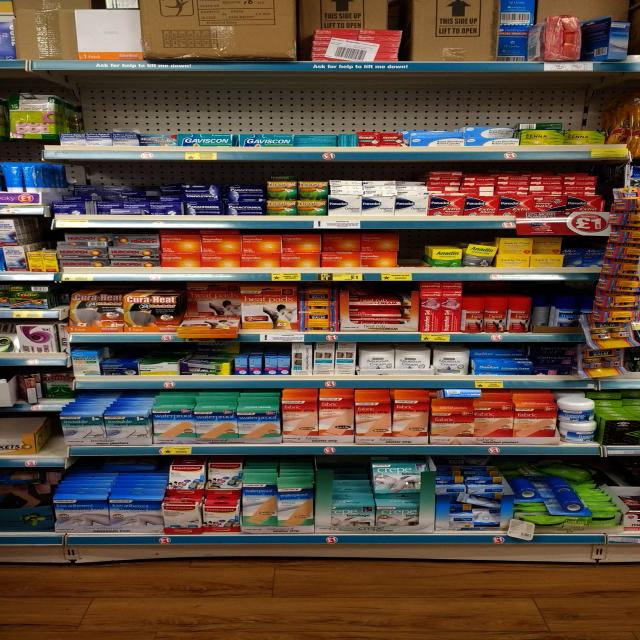empty_space: (399, 236, 422, 268), (46, 425, 62, 457)
